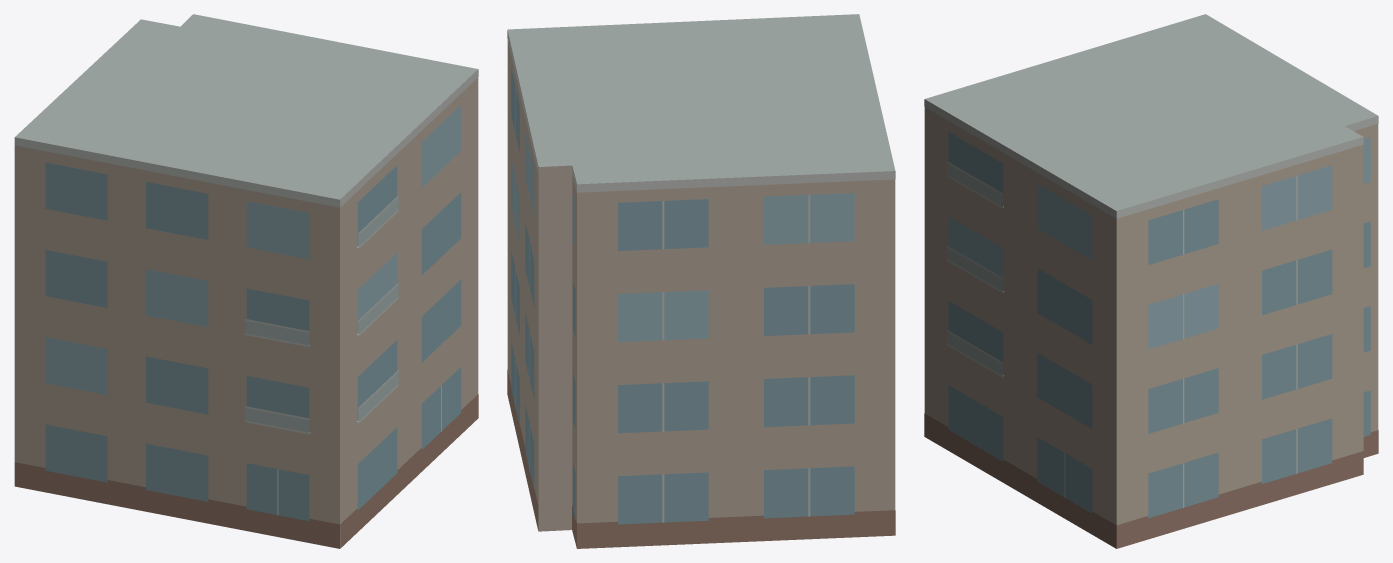
The model's file is survey-upis-32683438.glb.
3 views of the same model, side by side, from view 1: azimuth 30°, elevation 25°; view 2: azimuth 150°, elevation 25°; view 3: azimuth 270°, elevation 25° (orthographic). The views are drawn at different scales.
Visible parts, largest first — view 1: survey-upis-32683438.tmp; view 2: survey-upis-32683438.tmp; view 3: survey-upis-32683438.tmp.
Boxes of the visible parts, x1,y1,x2,y2 form: survey-upis-32683438.tmp: [14, 14, 478, 548]; survey-upis-32683438.tmp: [507, 14, 895, 548]; survey-upis-32683438.tmp: [924, 14, 1378, 548].
Bounding box in the file's own units: 13.34 × 10.65 × 12.98.
